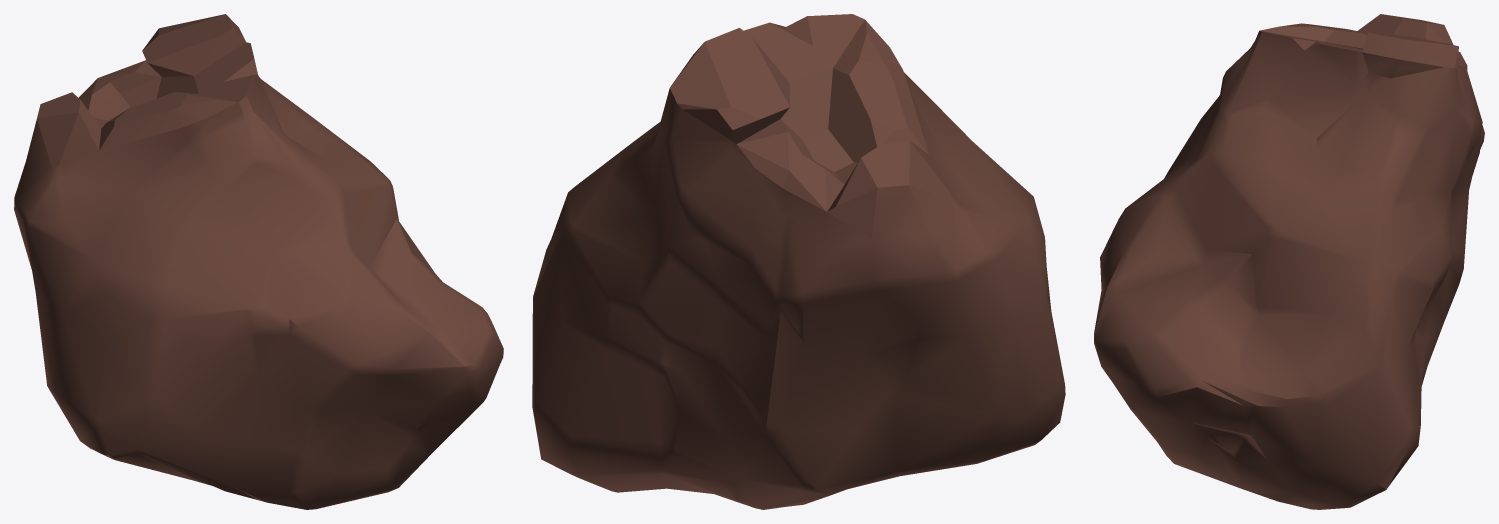
Rendered from p_mesh_hvs_stalagmite_large_destruction_part03.fbx.
3 views of the same model, side by side, from view 1: azimuth 30°, elevation 25°; view 2: azimuth 150°, elevation 25°; view 3: azimuth 270°, elevation 25° (orthographic). The views are drawn at different scales.
Parts seen in each view (by area): view 1: p_large_part3; view 2: p_large_part3; view 3: p_large_part3.
Part boxes in pixels (<box>): p_large_part3: <box>14,14,503,509</box>; p_large_part3: <box>532,14,1065,509</box>; p_large_part3: <box>1094,14,1484,509</box>.
Size of the model in its own units: 7.75 by 7.77 by 6.63.
